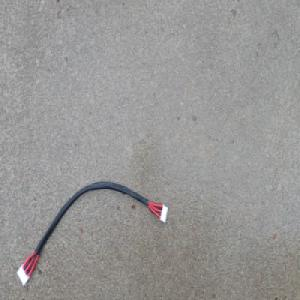Wire: (14, 179, 168, 286)
